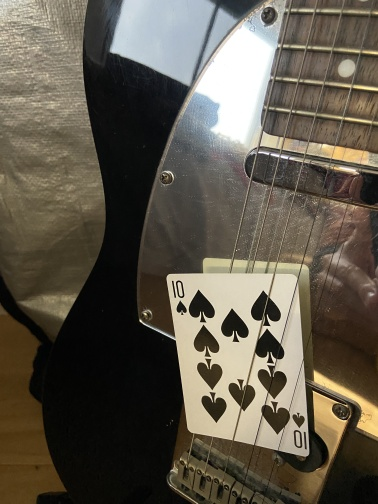ten: (164, 271, 311, 459)
